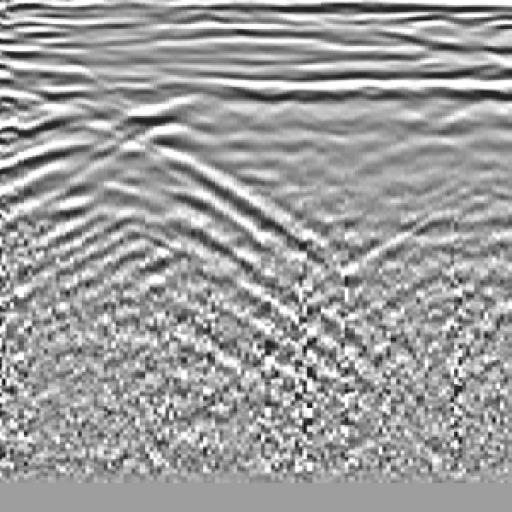metalic: (310, 58, 510, 294)
non-metallic: (1, 87, 215, 357)
